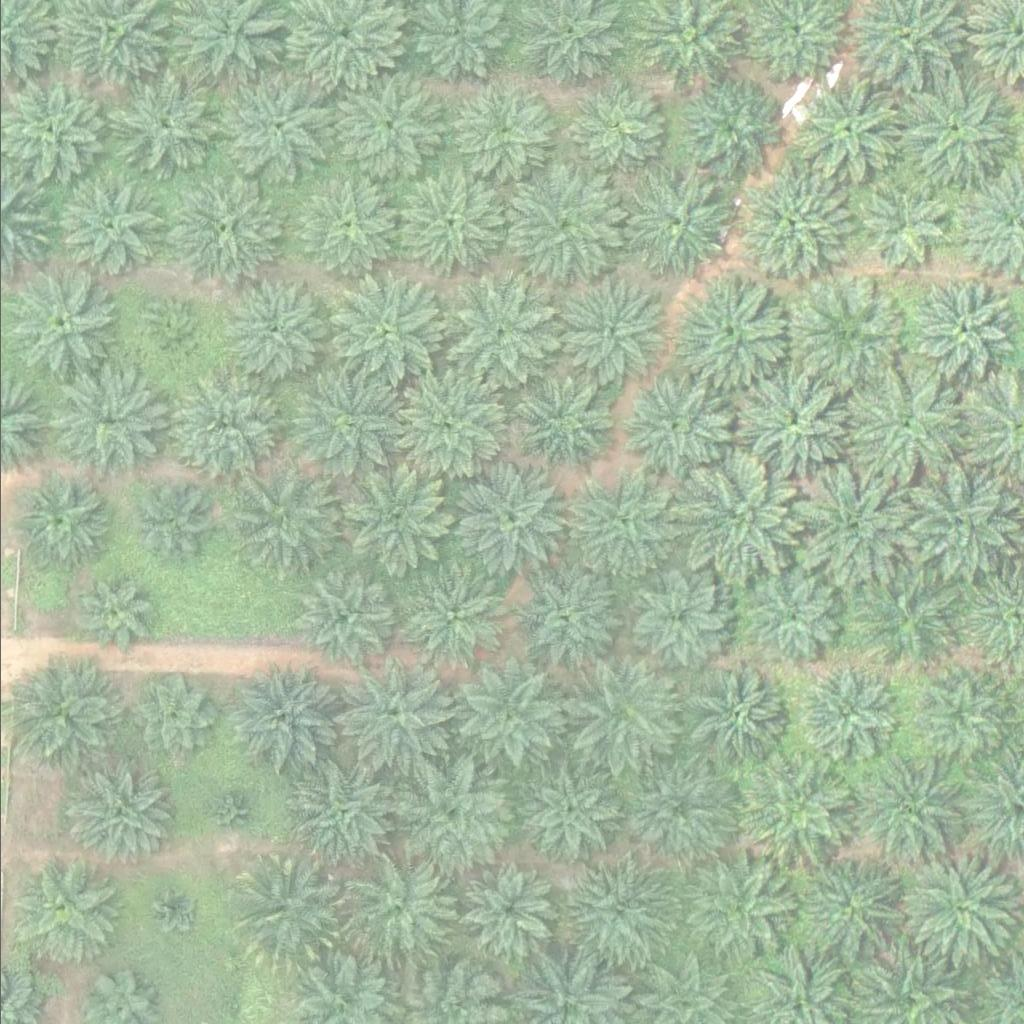Kelapa_Sawit: (854, 755, 968, 868), (678, 853, 792, 966), (558, 856, 672, 969), (169, 370, 283, 483), (328, 276, 442, 389), (900, 74, 1013, 187), (795, 75, 908, 188), (735, 169, 848, 282), (676, 279, 789, 392), (901, 465, 1014, 578), (795, 467, 908, 580), (680, 461, 793, 574), (901, 850, 1014, 963), (792, 852, 905, 965), (449, 660, 562, 773), (336, 660, 449, 773), (221, 663, 334, 776), (400, 558, 513, 671), (389, 374, 502, 487), (294, 368, 407, 481), (554, 275, 667, 388), (438, 279, 551, 392), (619, 166, 732, 279), (505, 171, 618, 284), (3, 268, 116, 381), (46, 364, 159, 477), (8, 663, 121, 776), (729, 756, 843, 868), (390, 172, 504, 284), (7, 855, 121, 967), (232, 854, 345, 966), (790, 278, 903, 390), (848, 372, 961, 484), (742, 370, 855, 482), (847, 563, 960, 675), (621, 752, 734, 864), (342, 852, 455, 964), (396, 752, 509, 864), (289, 756, 402, 868), (567, 655, 680, 767), (563, 467, 676, 579), (452, 464, 565, 576), (340, 469, 453, 581), (233, 468, 346, 580), (618, 374, 731, 486), (165, 174, 278, 286), (328, 73, 441, 185), (218, 77, 331, 189), (109, 71, 222, 183), (58, 756, 171, 868), (680, 77, 781, 177), (847, 177, 948, 277), (914, 277, 1015, 377), (742, 567, 843, 667), (623, 569, 724, 669), (681, 669, 782, 769), (457, 861, 558, 961), (516, 763, 617, 863), (519, 569, 620, 669), (292, 570, 393, 670), (513, 379, 614, 479), (56, 179, 157, 279), (795, 664, 895, 764), (225, 284, 325, 384), (294, 177, 394, 277), (562, 78, 662, 178), (448, 83, 548, 183), (14, 479, 103, 567), (910, 670, 998, 758), (125, 675, 213, 762), (127, 488, 203, 563), (77, 574, 152, 649), (137, 305, 200, 367), (204, 790, 255, 840), (148, 884, 199, 934)
